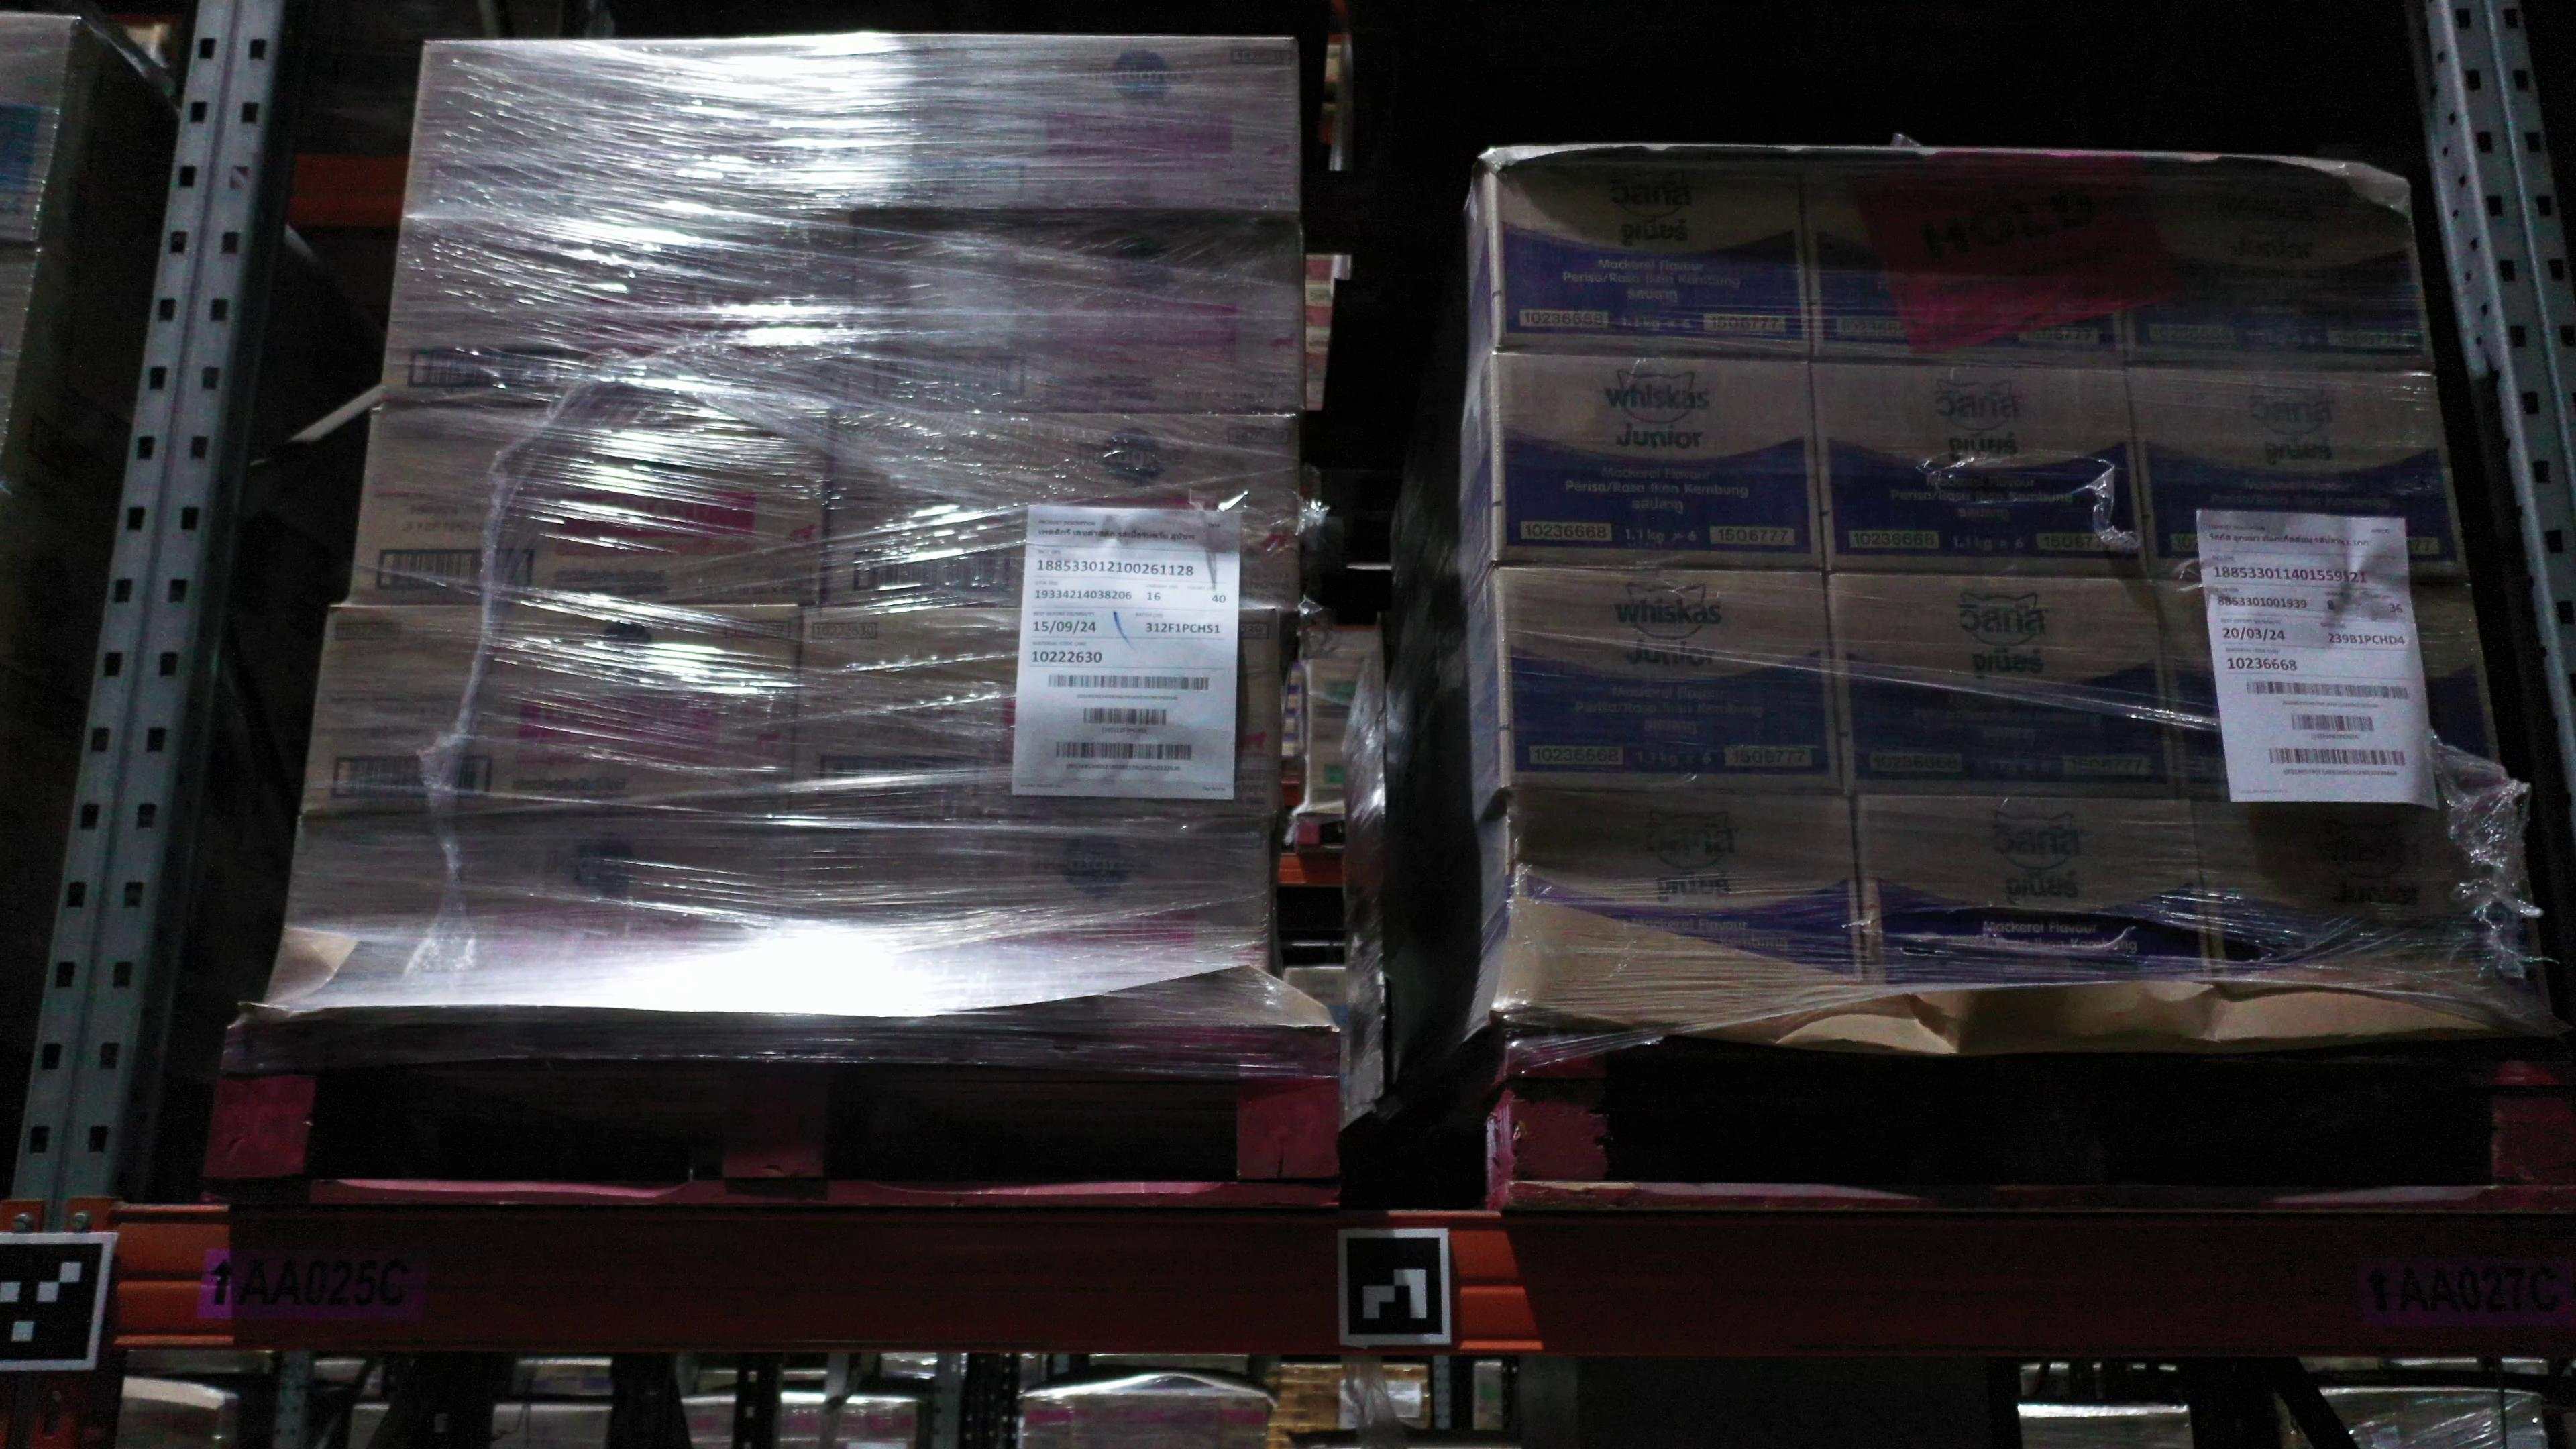-: (299, 603, 800, 821), (787, 607, 1277, 828), (350, 400, 839, 610), (285, 814, 786, 1007), (824, 412, 1299, 612), (780, 821, 1270, 1014), (382, 214, 856, 412), (853, 218, 1304, 421), (862, 28, 1302, 219), (409, 35, 858, 219), (1493, 566, 1845, 794), (1828, 573, 2183, 796), (2155, 579, 2509, 800), (2196, 798, 2557, 1014), (1491, 349, 1828, 573), (2130, 364, 2472, 584), (1812, 359, 2155, 573), (1851, 787, 2217, 984), (1507, 786, 1865, 982), (1799, 159, 2128, 364), (1491, 154, 1813, 363), (2111, 166, 2438, 372)
